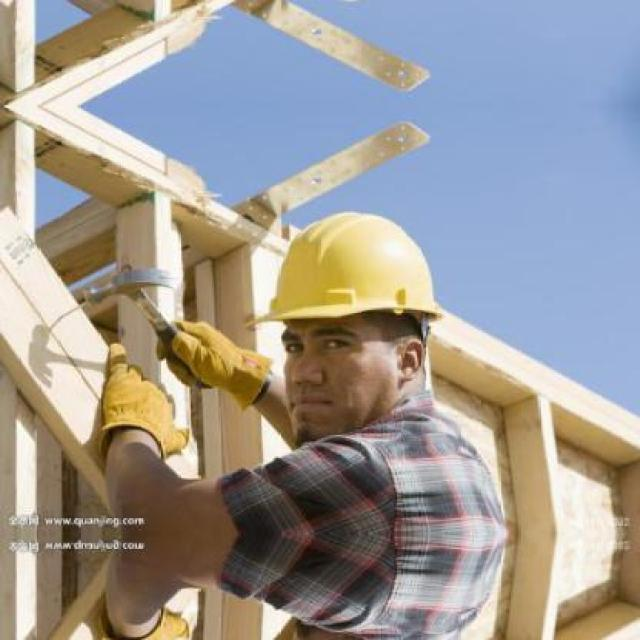helmet: (268, 209, 455, 450)
